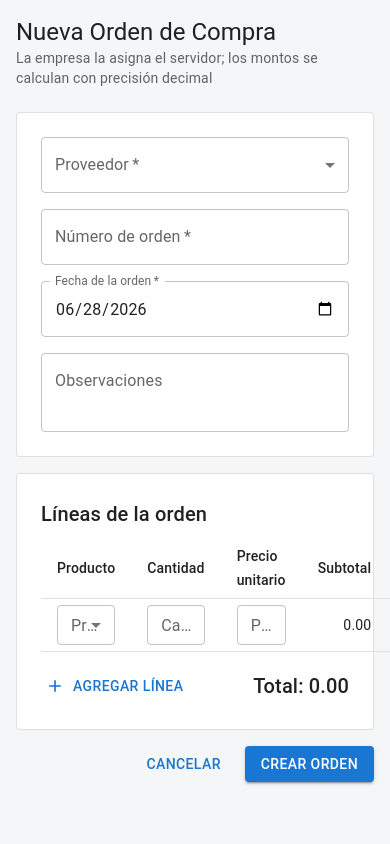
Test: OrdenCompraFormPage › calcula el subtotal y el total con decimal.js (sin float)
Check: the dropdown named "proveedor" next to "Proveedor" is shown, box x1=41 y1=137 x2=349 y2=193
Type "3" into the field labelled "Cantidad". click: (176, 625)
box: x1=147 y1=605 x2=205 y2=645
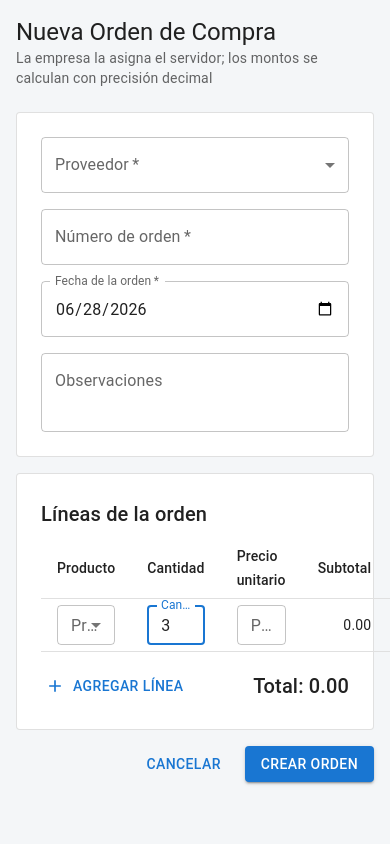
Type "0.1" into the field labelled "Precio unitario". click: (261, 625)
box: x1=237 y1=605 x2=286 y2=645
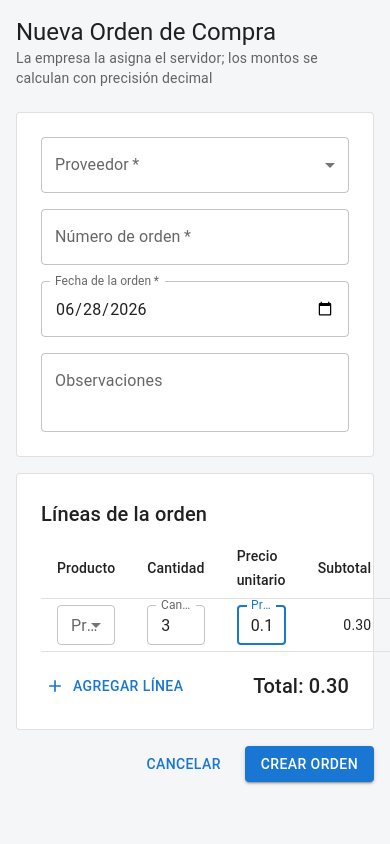
Check: the heading "Total: 0.30" is shown, box x1=253 y1=670 x2=349 y2=702
